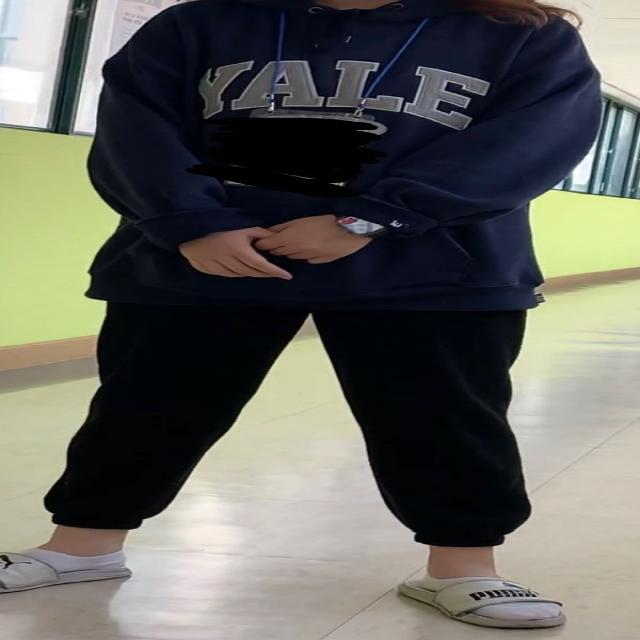hoodies: (83, 2, 607, 308)
trainingpants: (46, 301, 558, 542)
